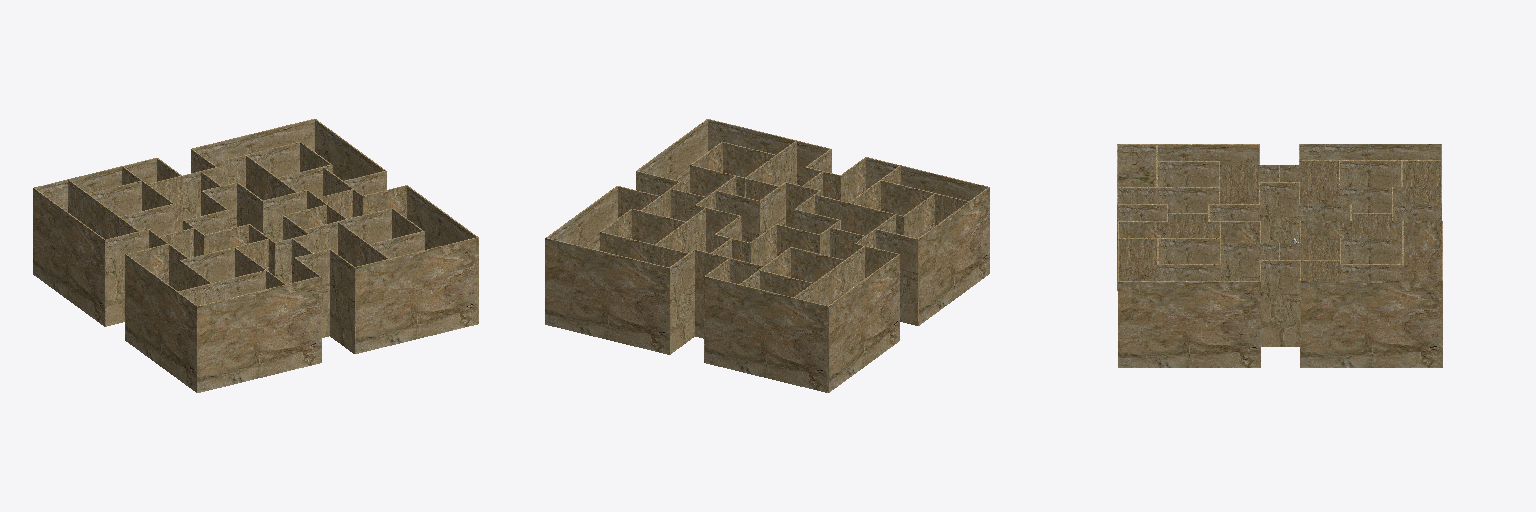
3 renders of one model, left to right at view 1: azimuth 30°, elevation 25°; view 2: azimuth 150°, elevation 25°; view 3: azimuth 270°, elevation 25°, orthographic.
Visible parts, largest first — view 1: Cube.078_Cube.089, Cube.083_Cube.094, Cube.072_Cube.083, Cube.077_Cube.088, Cube.090_Cube.101, Cube.088_Cube.099, Cube.073_Cube.084, Cube.084_Cube.095, Cube.089_Cube.100, Cube.071_Cube.082, Cube.093_Cube.104, Cube.104_Cube.115 (+21 smaller); view 2: Cube.090_Cube.101, Cube.071_Cube.082, Cube.072_Cube.083, Cube.077_Cube.088, Cube.083_Cube.094, Cube.095_Cube.106, Cube.082_Cube.093, Cube.084_Cube.095, Cube.078_Cube.089, Cube.089_Cube.100, Cube.086_Cube.097, Cube.105_Cube.116 (+21 smaller); view 3: Cube.084_Cube.095, Cube.089_Cube.100, Cube.077_Cube.088, Cube.101_Cube.112, Cube.095_Cube.106, Cube.103_Cube.114, Cube.072_Cube.083, Cube.107_Cube.118, Cube.111_Cube.122, Cube.115_Cube.126, Cube.119_Cube.130, Cube.254_Cube.266 (+19 smaller).
Boxes of the visible parts, x1,y1,x2,y2 form: Cube.078_Cube.089: [197, 276, 321, 392]; Cube.083_Cube.094: [356, 237, 477, 353]; Cube.072_Cube.083: [33, 188, 105, 326]; Cube.077_Cube.088: [126, 255, 196, 392]; Cube.090_Cube.101: [192, 119, 314, 162]; Cube.088_Cube.099: [329, 249, 355, 353]; Cube.073_Cube.084: [106, 229, 148, 326]; Cube.084_Cube.095: [406, 185, 478, 323]; Cube.089_Cube.100: [315, 119, 385, 180]; Cube.071_Cube.082: [34, 158, 156, 211]; Cube.093_Cube.104: [262, 190, 306, 241]; Cube.104_Cube.115: [87, 180, 142, 226]; Cube.090_Cube.101: [545, 238, 669, 354]; Cube.071_Cube.082: [705, 276, 826, 392]; Cube.072_Cube.083: [827, 254, 899, 392]; Cube.077_Cube.088: [918, 187, 989, 325]; Cube.083_Cube.094: [708, 119, 829, 185]; Cube.095_Cube.106: [669, 249, 695, 354]; Cube.082_Cube.093: [876, 229, 918, 325]; Cube.084_Cube.095: [636, 119, 707, 192]; Cube.078_Cube.089: [866, 157, 989, 200]; Cube.089_Cube.100: [546, 186, 617, 250]; Cube.086_Cube.097: [715, 190, 758, 242]; Cube.105_Cube.116: [791, 247, 845, 292]; Cube.084_Cube.095: [1118, 281, 1260, 367]; Cube.089_Cube.100: [1301, 281, 1441, 367]; Cube.077_Cube.088: [1118, 144, 1258, 186]; Cube.101_Cube.112: [1261, 260, 1299, 346]; Cube.095_Cube.106: [1392, 221, 1441, 280]; Cube.103_Cube.114: [1260, 182, 1298, 242]; Cube.072_Cube.083: [1300, 144, 1440, 159]; Cube.107_Cube.118: [1340, 160, 1400, 186]; Cube.111_Cube.122: [1158, 161, 1218, 186]; Cube.115_Cube.126: [1159, 238, 1219, 263]; Cube.119_Cube.130: [1341, 238, 1401, 263]; Cube.254_Cube.266: [1221, 243, 1259, 280].
Bounding box in the file's own units: 69.69 × 20.35 × 69.6.
7 materials, 5 textured.